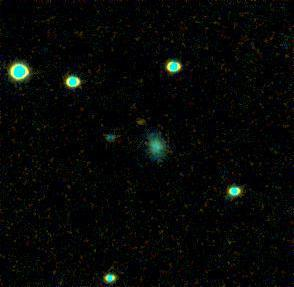star: (126, 108, 156, 138)
